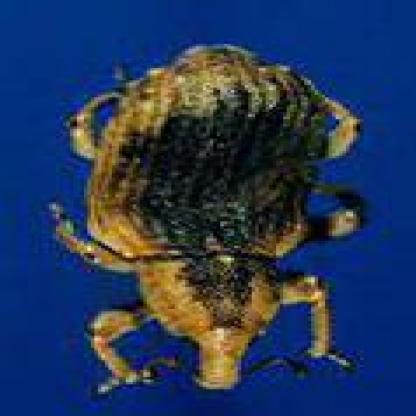rice-bug: (60, 43, 374, 393)
